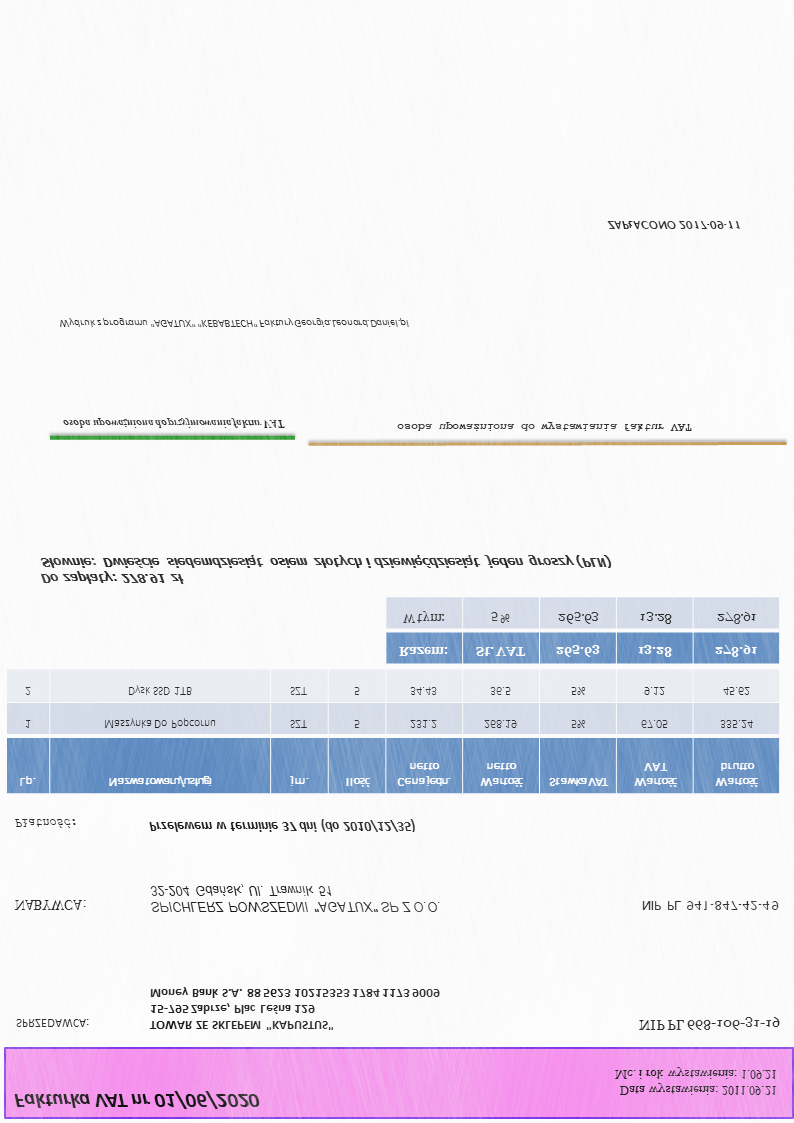Table: (5, 666, 781, 796), (385, 596, 781, 666)
TextBox: (38, 551, 614, 588), (146, 985, 440, 1032), (147, 882, 444, 917), (610, 1065, 778, 1101), (12, 1088, 261, 1111), (58, 315, 411, 331), (146, 816, 416, 835), (395, 420, 694, 435), (61, 415, 286, 431), (635, 1013, 781, 1034), (640, 897, 781, 913), (605, 218, 742, 234), (12, 897, 88, 914), (13, 1015, 90, 1031), (13, 816, 77, 832)
